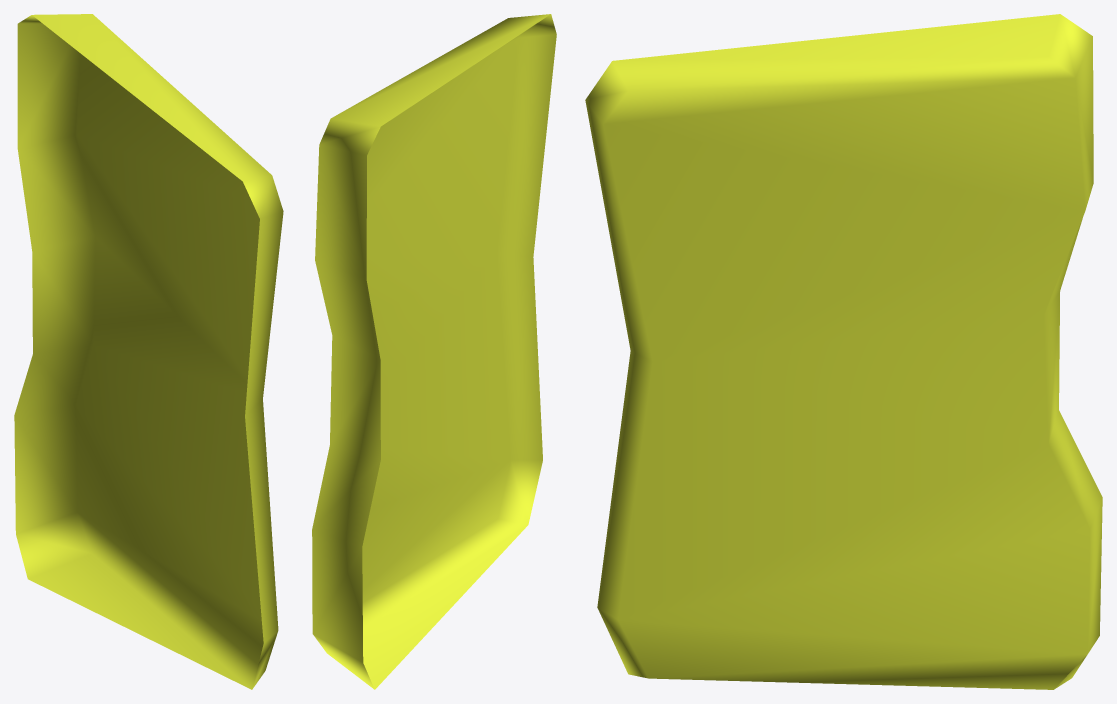
Rendered from b_polySurface618_b_BMW_i8Elite_2_592.glb.
3 renders of one model, left to right at view 1: azimuth 30°, elevation 25°; view 2: azimuth 150°, elevation 25°; view 3: azimuth 270°, elevation 25°, orthographic. The views are drawn at different scales.
Parts seen in each view (by area): view 1: b:polySurface618_b:BMW_i8Elite_2017CalliperGloss_Material1_0; view 2: b:polySurface618_b:BMW_i8Elite_2017CalliperGloss_Material1_0; view 3: b:polySurface618_b:BMW_i8Elite_2017CalliperGloss_Material1_0.
Part boxes in pixels (x1,y1,x2,y2): b:polySurface618_b:BMW_i8Elite_2017CalliperGloss_Material1_0: [14, 14, 283, 689]; b:polySurface618_b:BMW_i8Elite_2017CalliperGloss_Material1_0: [312, 14, 556, 689]; b:polySurface618_b:BMW_i8Elite_2017CalliperGloss_Material1_0: [585, 14, 1102, 689].
Bounding box in the file's own units: 0.0129 × 0.1211 × 0.0856.
